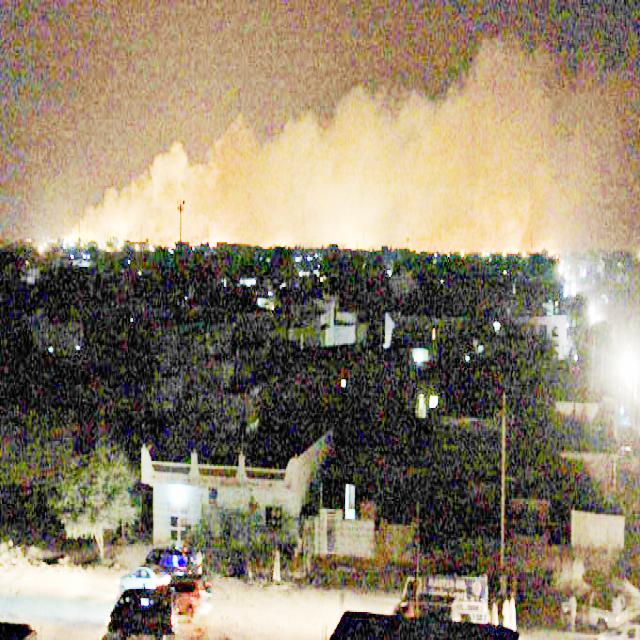api: (53, 221, 81, 251)
asap: (76, 35, 627, 234)
